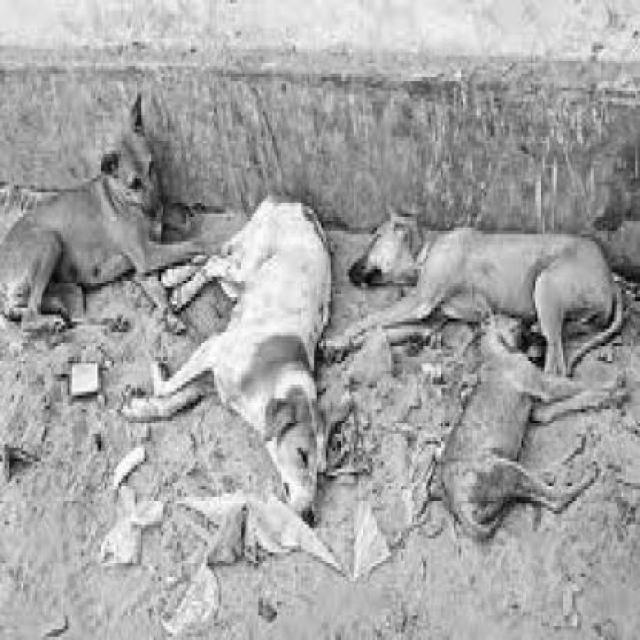Dog: (148, 208, 346, 532), (1, 84, 221, 338), (347, 188, 628, 368), (441, 288, 621, 562)
